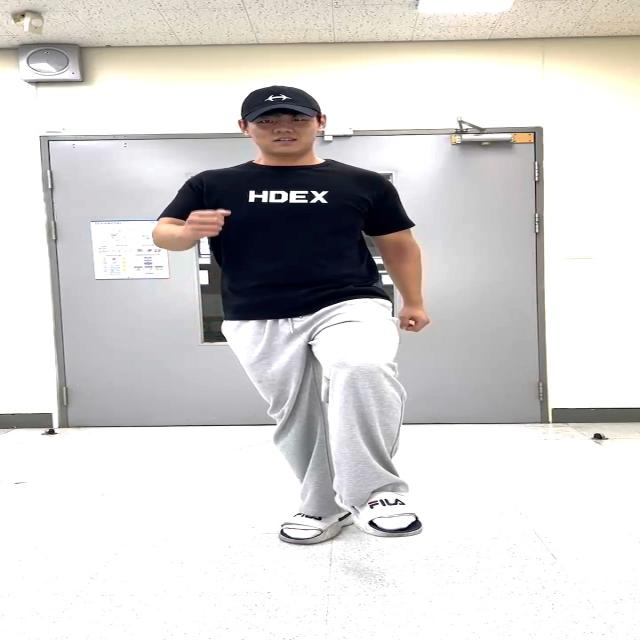leg: (328, 316, 422, 539)
